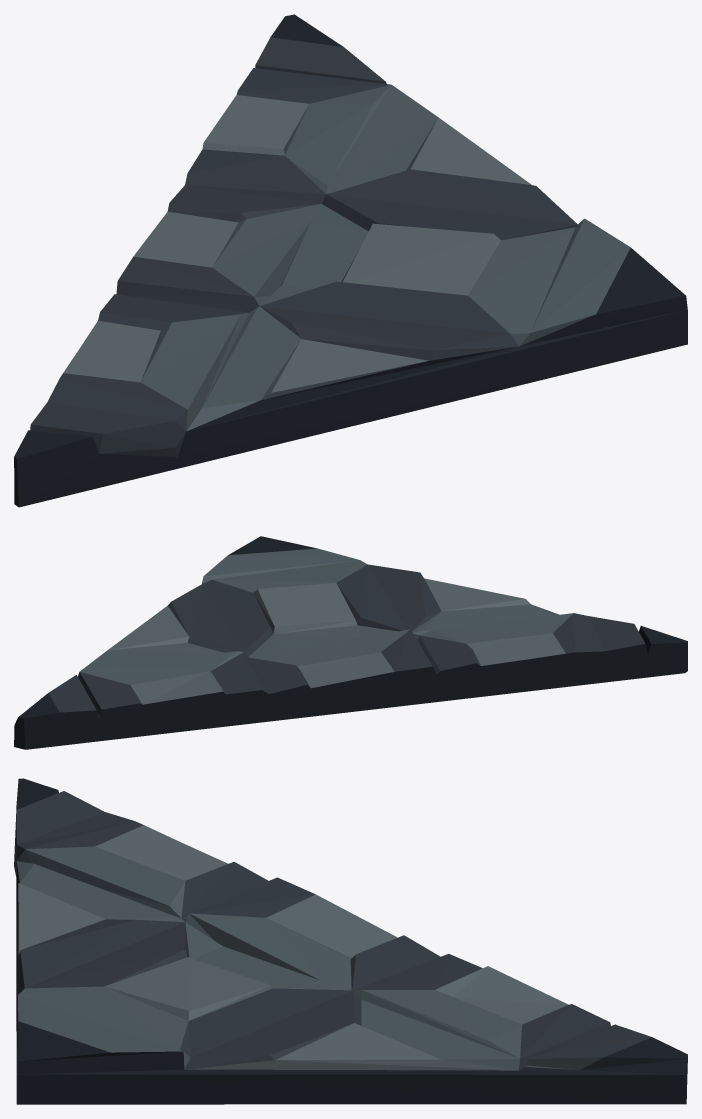
Rendered from MDungeon_FloorTiles_01_Corner.FBX.
3 renders of one model, top to bottom at view 1: azimuth 30°, elevation 25°; view 2: azimuth 150°, elevation 25°; view 3: azimuth 270°, elevation 25°, orthographic. The views are drawn at different scales.
Parts seen in each view (by area): view 1: MDungeon_FloorTiles_01_Corner_LOD0; view 2: MDungeon_FloorTiles_01_Corner_LOD0; view 3: MDungeon_FloorTiles_01_Corner_LOD0.
Part boxes in pixels (x1,y1,x2,y2): MDungeon_FloorTiles_01_Corner_LOD0: (14, 14, 687, 507); MDungeon_FloorTiles_01_Corner_LOD0: (14, 536, 687, 749); MDungeon_FloorTiles_01_Corner_LOD0: (14, 778, 687, 1104).
Size of what is drawn, in the model's own units: 6.03 by 0.5258 by 6.04.
